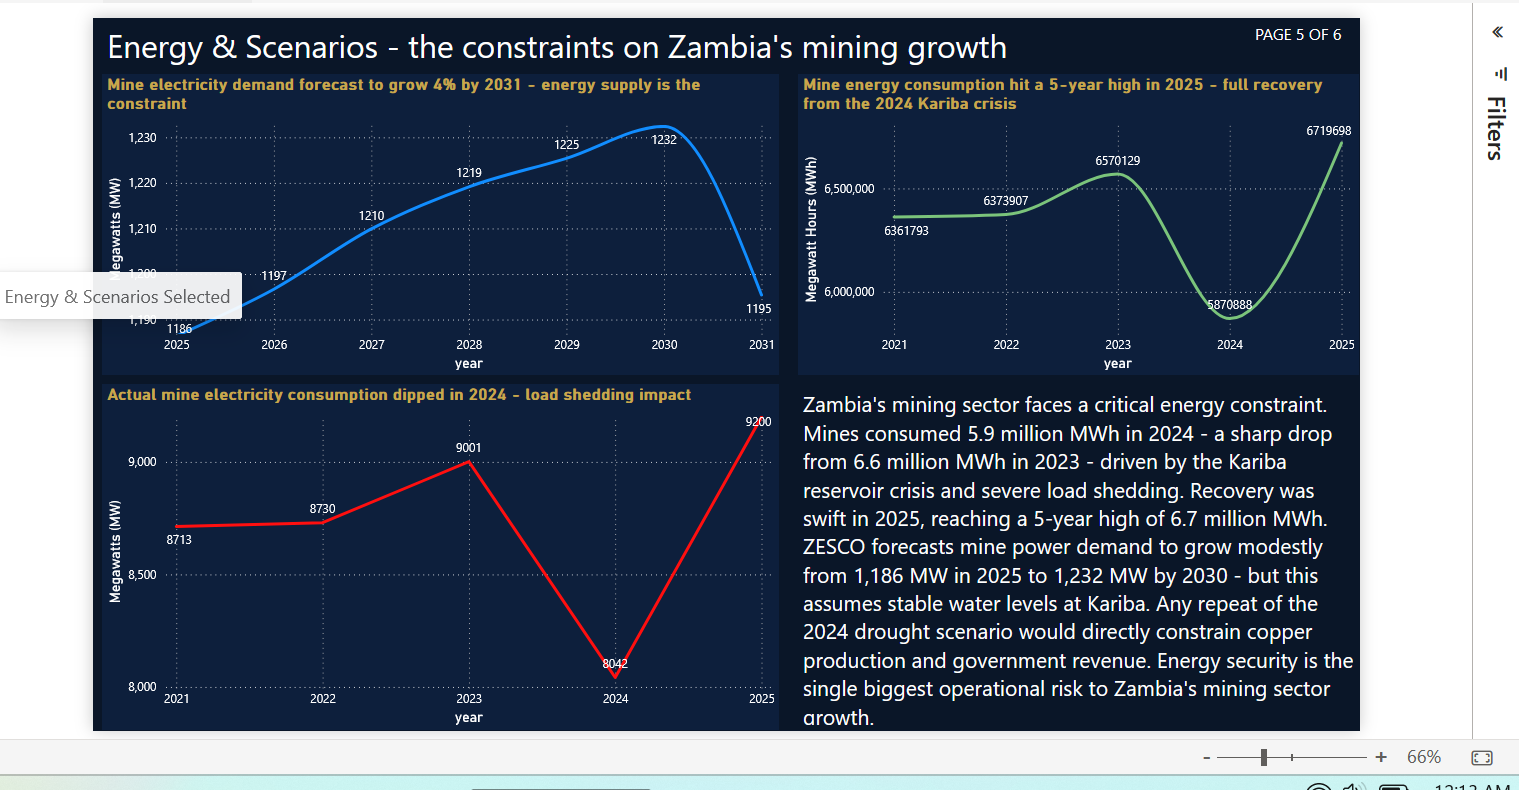

Layout of this report page (visuals, bound fields, positions):
{"tool":"powerbi","page":{"name":"Energy & Scenarios","canvas":[1280,720],"ordinal":4},"visuals":[{"type":"textbox","box":[9.8,0,1097.6,55.7],"z":0},{"type":"textbox","box":[1168.1,0,111.4,55.7],"z":1000},{"type":"lineChart","title":"Mine electricity demand forecast to grow 4% by 2031 - energy supply is the constraint","fields":{"Y":["Sum(6_sector_indicators_master.value)"],"Category":["6_sector_indicators_master.year"]},"box":[9.4,56.2,684.1,304.6],"z":2000},{"type":"lineChart","title":"Actual mine electricity consumption dipped in 2024 - load shedding impact","fields":{"Category":["6_sector_indicators_master.year"],"Y":["Sum(6_sector_indicators_master.value)"]},"box":[9.4,370.2,684.1,349.1],"z":3000},{"type":"lineChart","title":"Mine energy consumption hit a 5-year high in 2025 - full recovery from the 2024 Kariba crisis","fields":{"Y":["Sum(6_sector_indicators_master.value)"],"Category":["6_sector_indicators_master.year"]},"box":[712.2,56.2,567,304.6],"z":4000},{"type":"textbox","box":[712.2,370.2,567,349.1],"z":5000}]}

Visuals, with their boxes on the page's 1280x720 design canvas (x1, y1, x2, y2). These are canvas units, not pixel positions in the 1519x790 screenshot, which may show the page scaled, cropped or inside an application window:
textbox: 10 0 1107 56
textbox: 1168 0 1280 56
"Mine electricity demand forecast to grow 4% by 2031 - energy supply is the constraint" lineChart: 9 56 694 361
"Actual mine electricity consumption dipped in 2024 - load shedding impact" lineChart: 9 370 694 719
"Mine energy consumption hit a 5-year high in 2025 - full recovery from the 2024 Kariba crisis" lineChart: 712 56 1279 361
textbox: 712 370 1279 719
